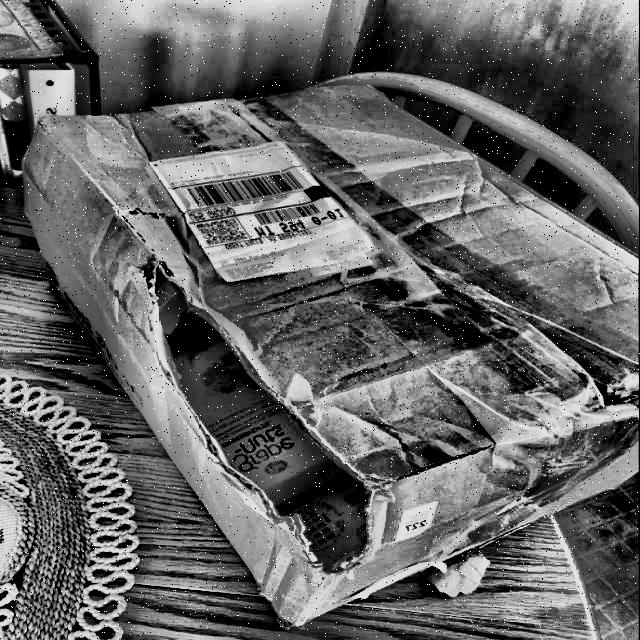box: (0, 78, 640, 640)
hole: (147, 288, 399, 558)
